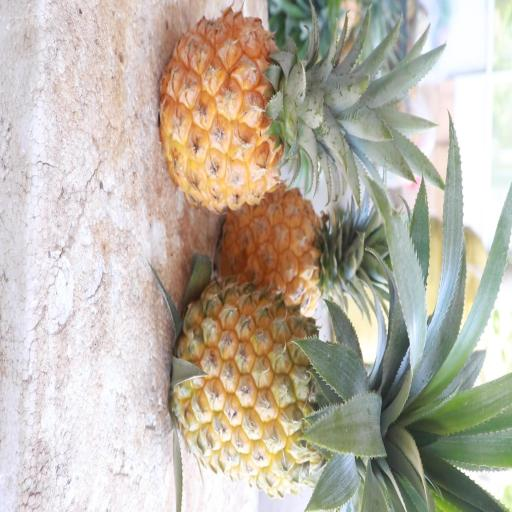Pineapple - v8 v1: (169, 273, 387, 503), (154, 4, 356, 216), (216, 177, 380, 319)
